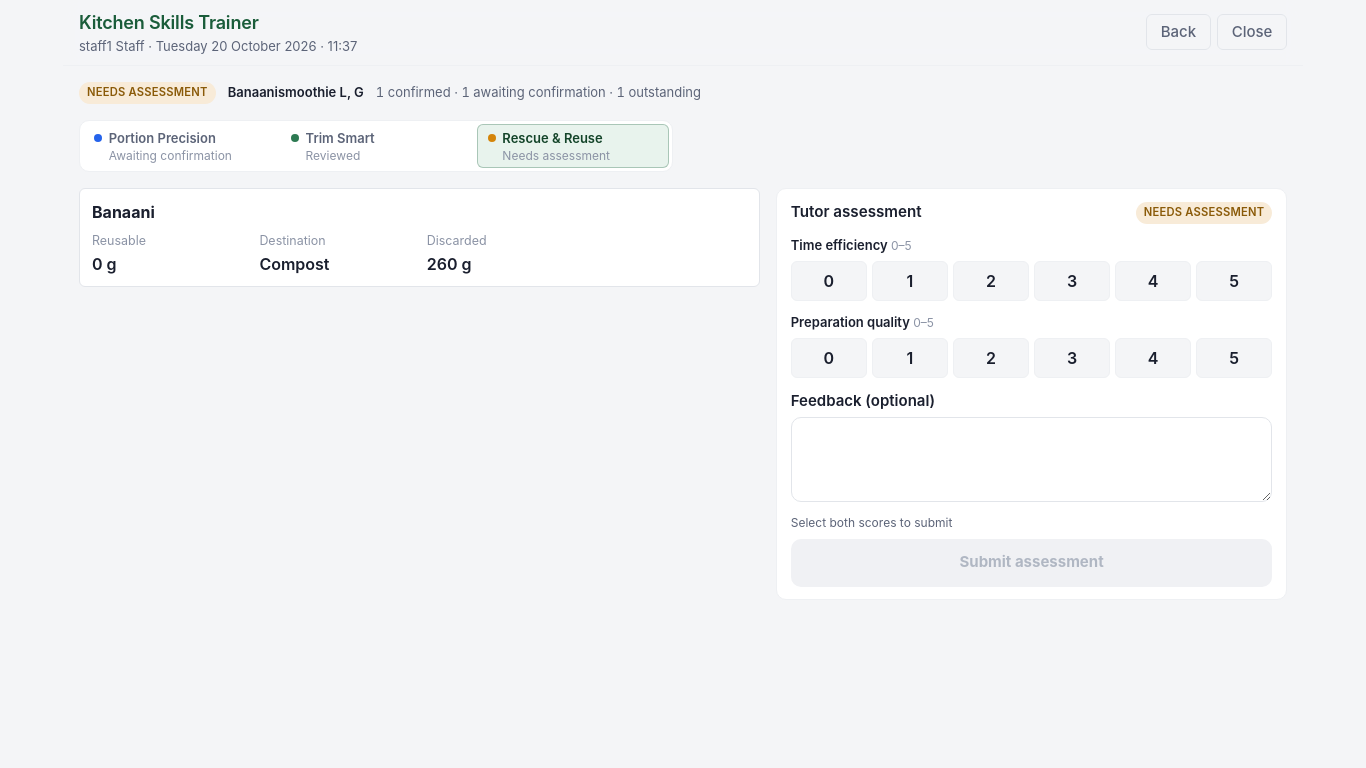
Kitchen Skills trainer three-state assessment status › does not unlock Assess again when the old feed snapshot is replayed after a reload
The width and height of the screenshot is (1366, 768).
Click the tab with test id "kitchen-day-tutor-module-tab-portionPrecision" at (179, 146), box [83,124,275,168]
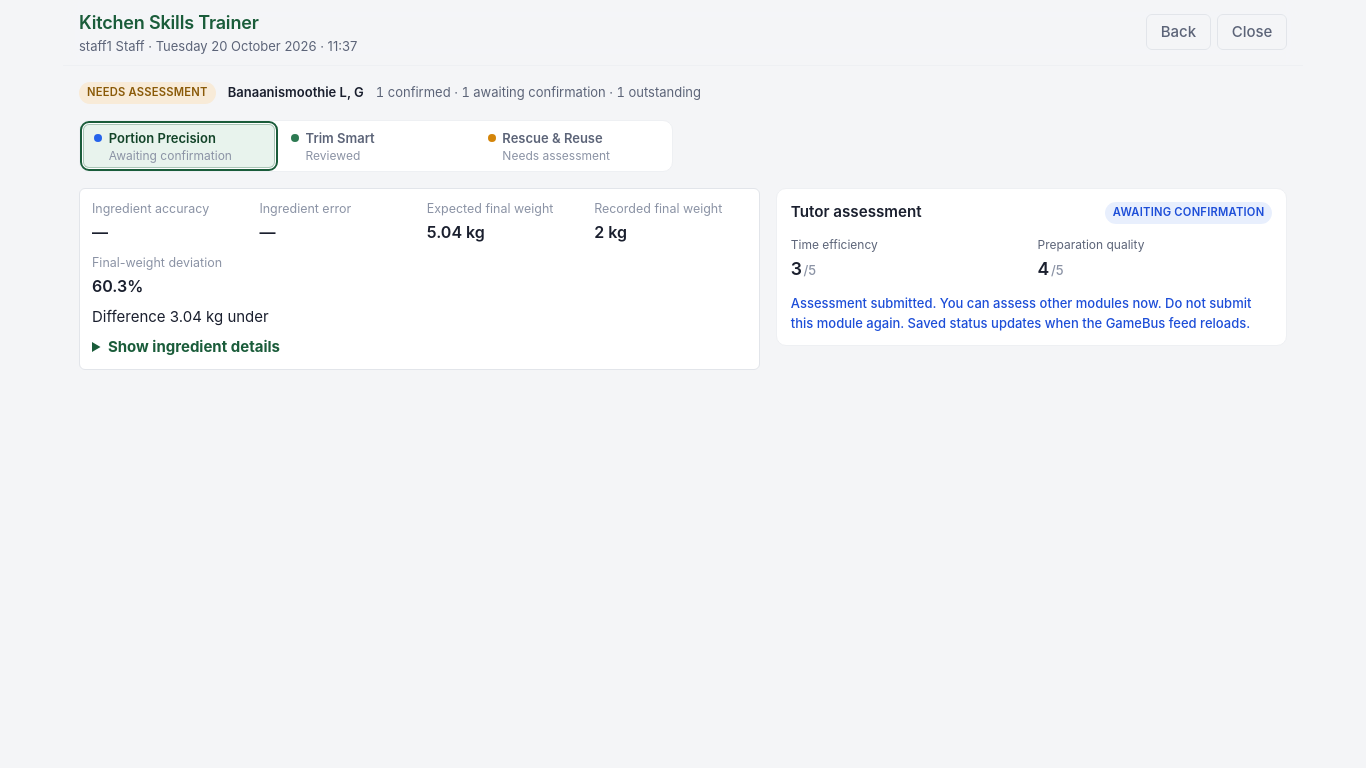
Result: the element with test id "kitchen-day-review-portionPrecision-awaiting" is shown at [776,188,1287,346]
